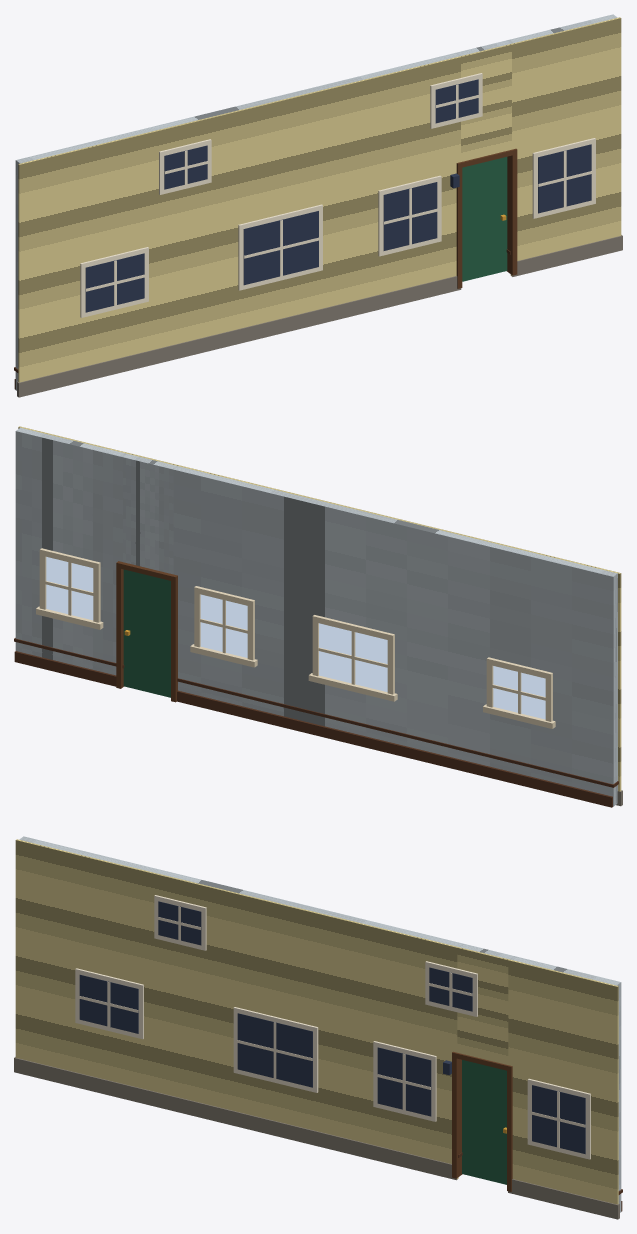
The model's file is front.glb.
3 renders of one model, top to bottom at view 1: azimuth 30°, elevation 25°; view 2: azimuth 150°, elevation 25°; view 3: azimuth 330°, elevation 25°, orthographic.
Parts seen in each view (by area): view 1: Box6, Box8, Box7, Box14, Box10, Box40, Box1, Box29, Box18, Box51, Box9, Box39 (+10 smaller); view 2: Box1, Box3, Box5, Box14, Box2, Box47, Box25, Box36, Box58, Box71, Box6, Box4 (+9 smaller); view 3: Box6, Box8, Box7, Box14, Box10, Box40, Box29, Box18, Box51, Box1, Box9, Box39 (+10 smaller).
Part boxes in pixels (x1,y1,x2,y2): Box6: (18, 56, 460, 382); Box8: (510, 17, 621, 275); Box7: (17, 276, 461, 397); Box14: (462, 157, 507, 281); Box10: (460, 44, 511, 161); Box40: (243, 211, 318, 285); Box1: (15, 53, 459, 390); Box29: (383, 182, 437, 250); Box18: (538, 144, 591, 213); Box51: (85, 253, 144, 312); Box9: (512, 235, 622, 276); Box39: (238, 204, 322, 290); Box1: (173, 466, 617, 806); Box3: (15, 427, 126, 675); Box5: (123, 454, 177, 574); Box14: (123, 569, 170, 697); Box2: (177, 690, 612, 807); Box47: (319, 623, 387, 692); Box25: (46, 557, 93, 620); Box36: (200, 594, 247, 657); Box58: (493, 666, 545, 719); Box71: (177, 678, 618, 787); Box6: (179, 465, 621, 791); Box4: (14, 651, 116, 686); Box6: (15, 839, 458, 1179); Box8: (508, 959, 618, 1204); Box7: (14, 1057, 457, 1180); Box14: (462, 1060, 506, 1184); Box10: (457, 947, 508, 1064); Box40: (237, 1013, 312, 1087); Box29: (377, 1047, 431, 1116); Box18: (532, 1085, 585, 1154); Box51: (79, 974, 138, 1033); Box1: (19, 836, 462, 946); Box9: (508, 1179, 619, 1219); Box39: (233, 1007, 318, 1092).
Size of the model in its own units: 11.27 by 4.14 by 0.395.
Materials: 11 (2 with a texture image).
